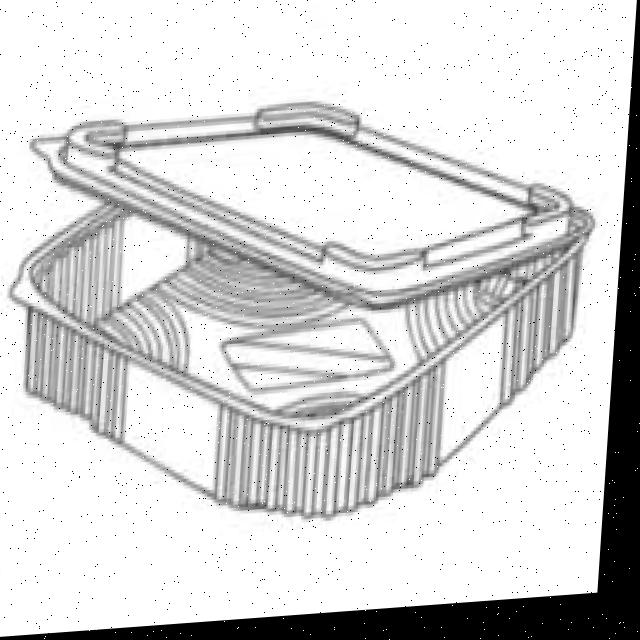disposable: (24, 85, 605, 551)
